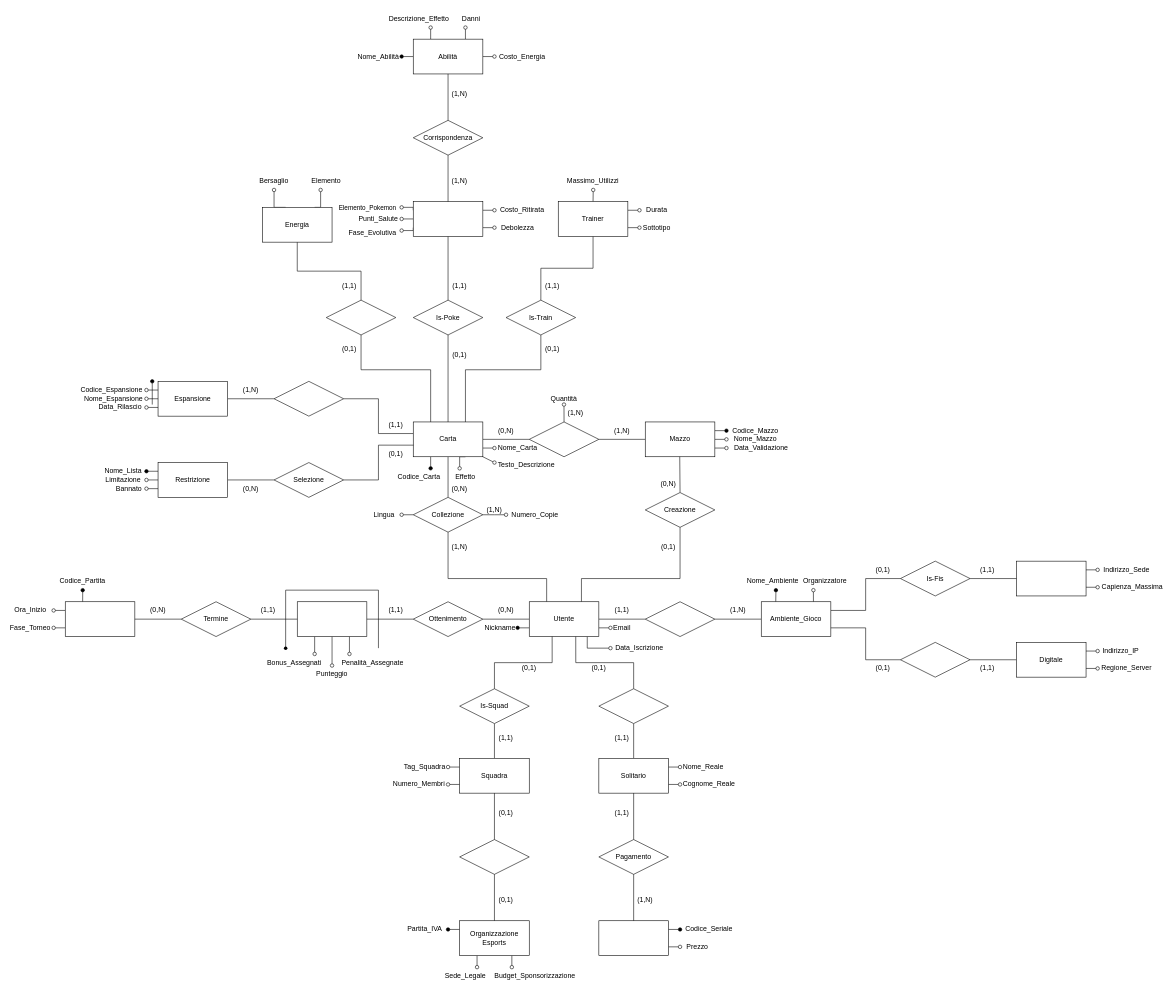
Image size: 1173x994. Some labels were removed from this diagram. Here are the shapes that lost their labels. From the top down, the centre of each, then its label:
At (448,218): "Pokemon".
At (361,317): "Is-Ene".
At (308,398): "Pubblicazione".
At (564,439): "PartOf".
At (1051,578): "Fisico".
At (100,619): "Partita".
At (332,619): "Risultato".
At (680,619): "Accesso".
At (935,659): "Is-Dig".
At (633,706): "Is-Solo".
At (494,856): "Finanziata".
At (633,938): "Biglietto".
